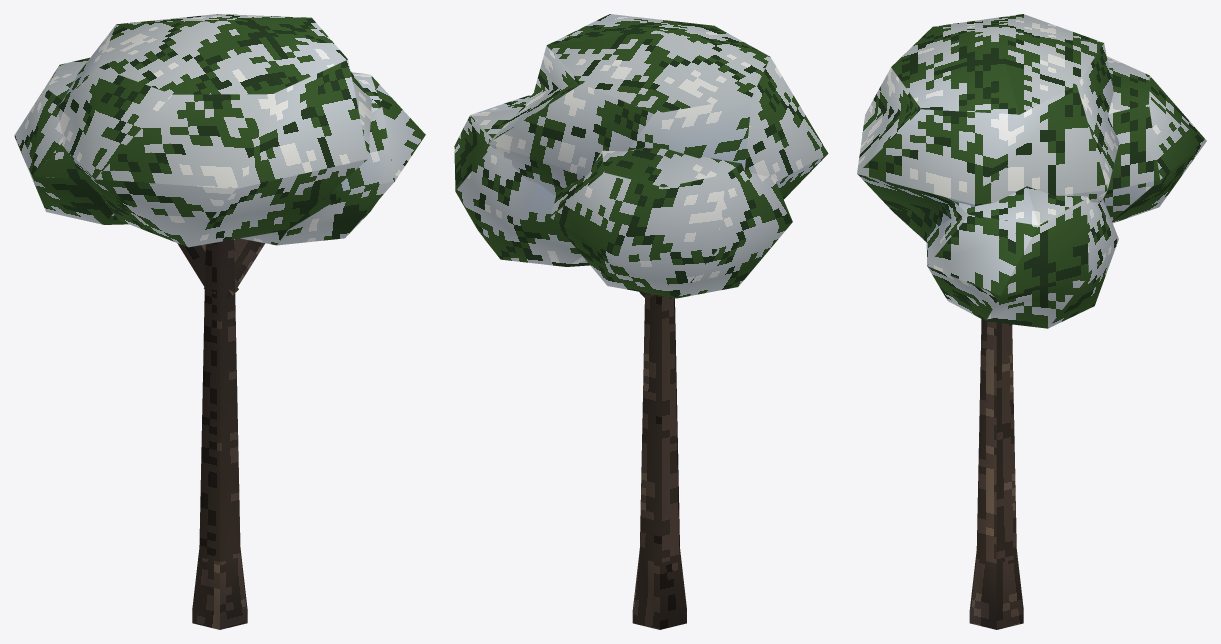
The model's file is mnat.oak__young.glb.
The picture shows the model from 3 angles, left to right: view 1: azimuth 30°, elevation 25°; view 2: azimuth 150°, elevation 25°; view 3: azimuth 270°, elevation 25°; orthographic projection. The views are drawn at different scales.
Visible parts, largest first — view 1: kit_crown, kit_trunk; view 2: kit_crown, kit_trunk; view 3: kit_crown, kit_trunk.
Boxes of the visible parts, x1,y1,x2,y2 form: kit_crown: (14, 14, 425, 247); kit_trunk: (177, 238, 264, 629); kit_crown: (454, 14, 828, 298); kit_trunk: (632, 291, 686, 629); kit_crown: (857, 14, 1206, 328); kit_trunk: (969, 319, 1023, 629).
Size of the model in its own units: 2.4 by 3.7 by 2.02.
Materials: 2 (2 with a texture image).
